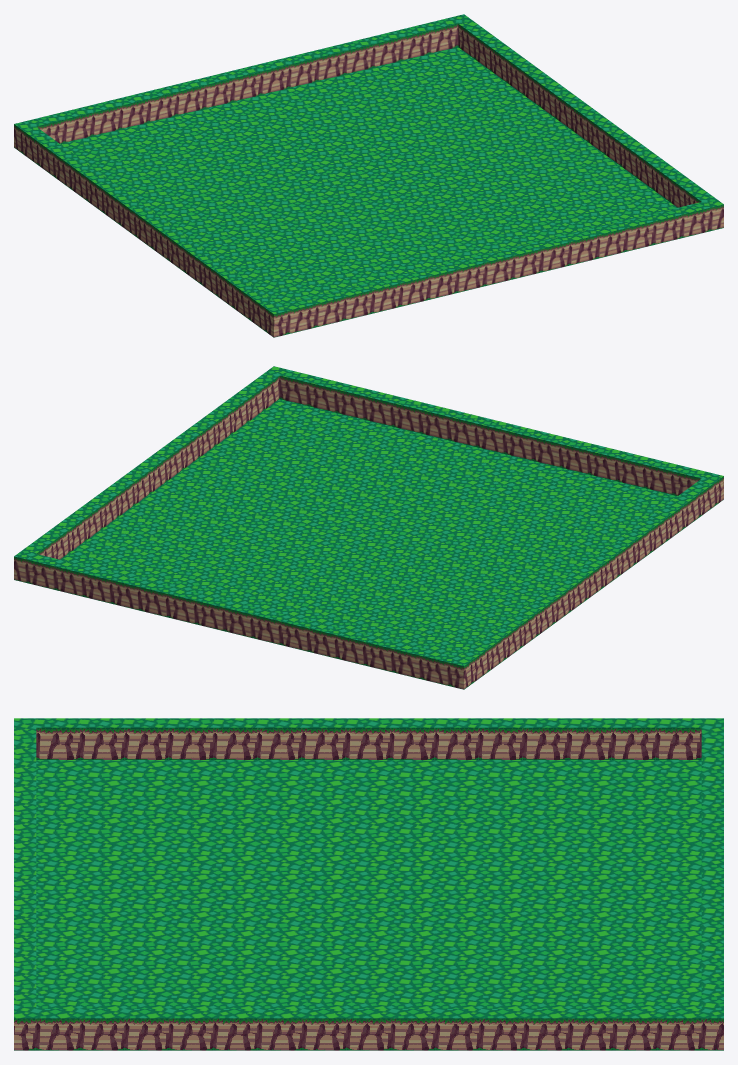
File: planeflat.fbx
The picture shows the model from 3 angles, top to bottom: view 1: azimuth 30°, elevation 25°; view 2: azimuth 150°, elevation 25°; view 3: azimuth 270°, elevation 25°; orthographic projection. The views are drawn at different scales.
Parts seen in each view (by area): view 1: Plane; view 2: Plane; view 3: Plane.
Boxes of the visible parts, x1,y1,x2,y2 form: Plane: (14, 14, 723, 337); Plane: (14, 366, 723, 689); Plane: (14, 718, 723, 1050).
Bounding box in the file's own units: 2000 × 100 × 2000.
